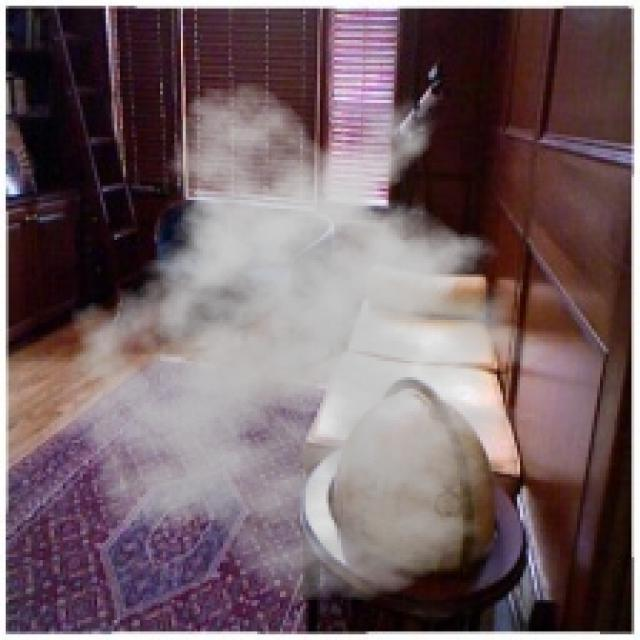Smoke: (37, 80, 577, 603)
